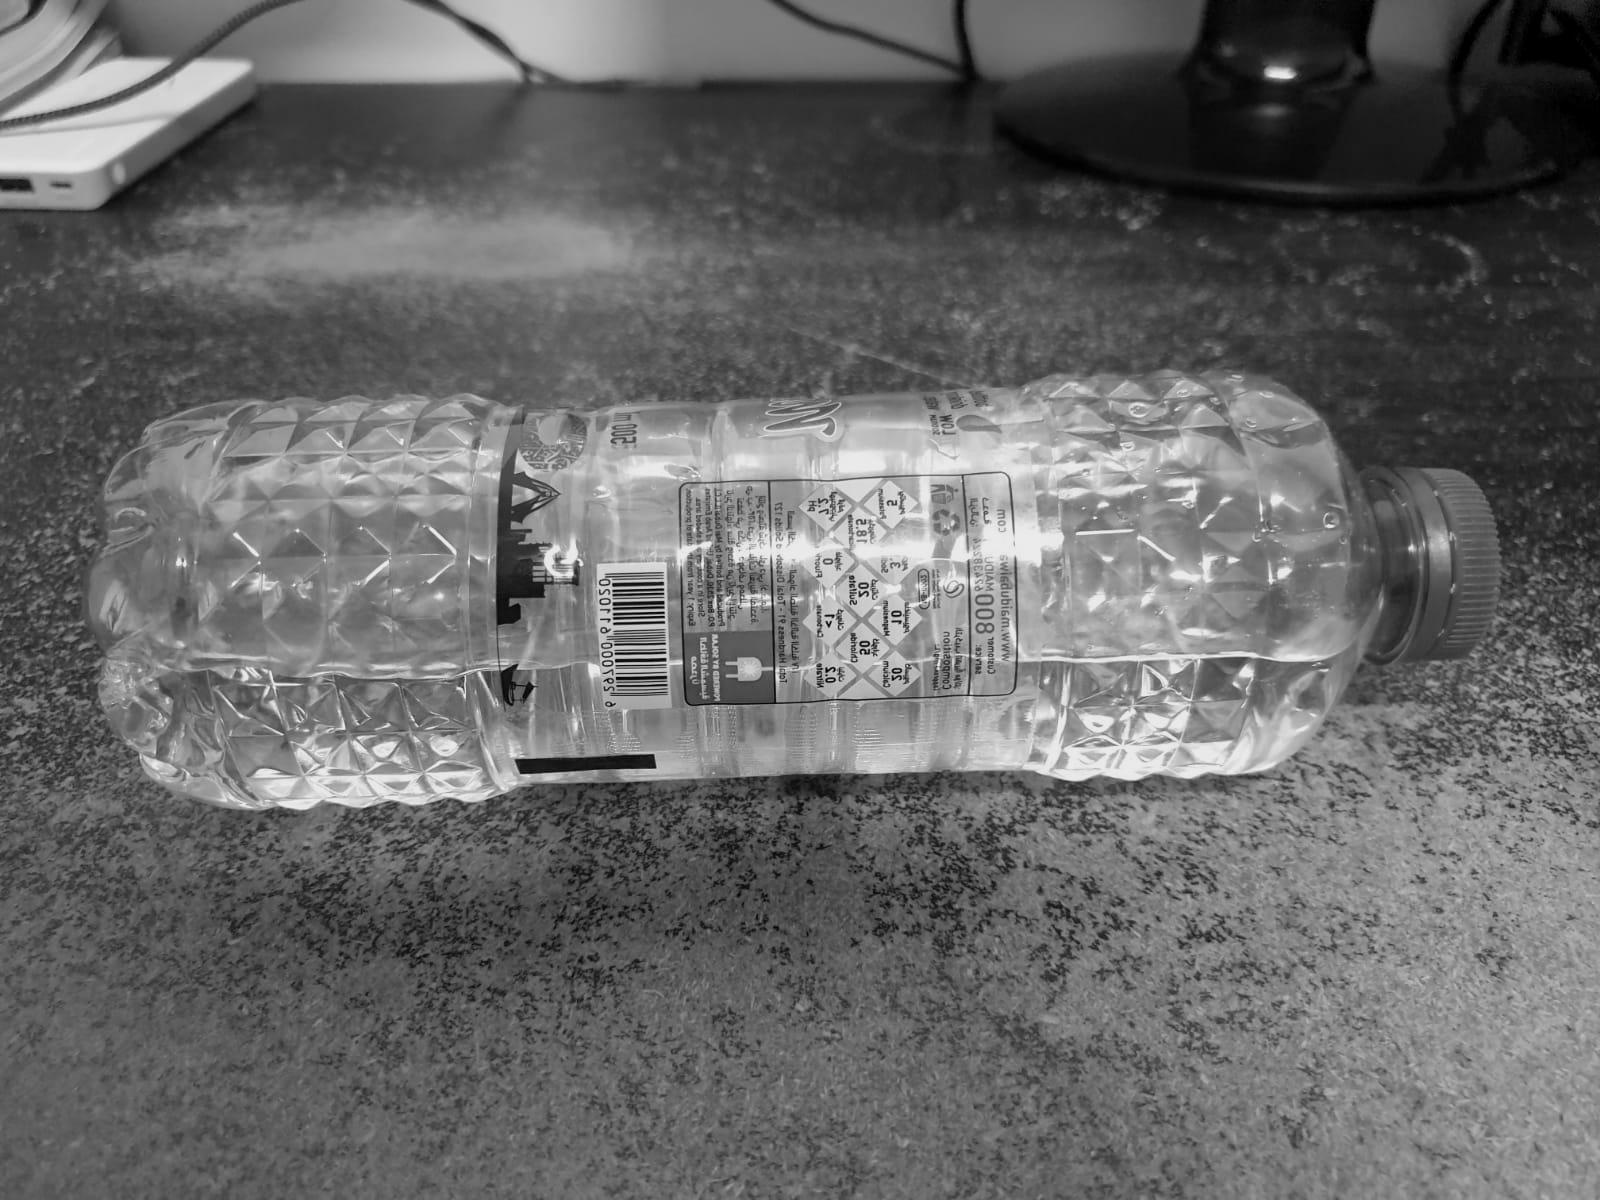bottle: (78, 376, 1513, 821)
